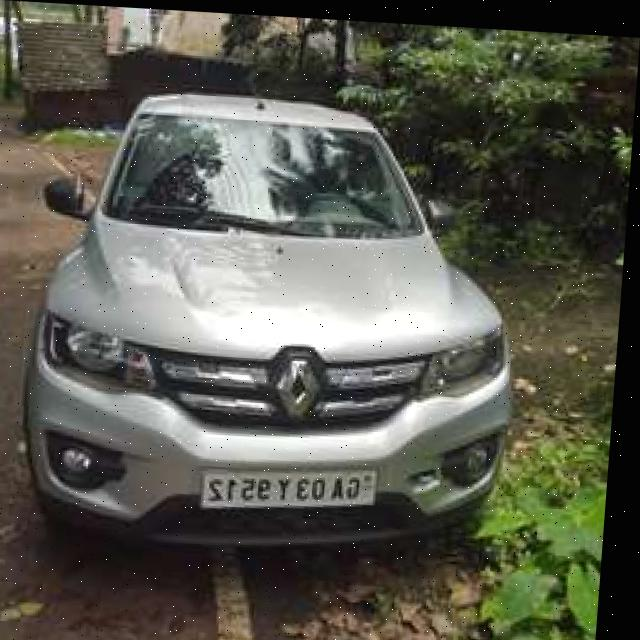plate: (209, 456, 387, 514)
